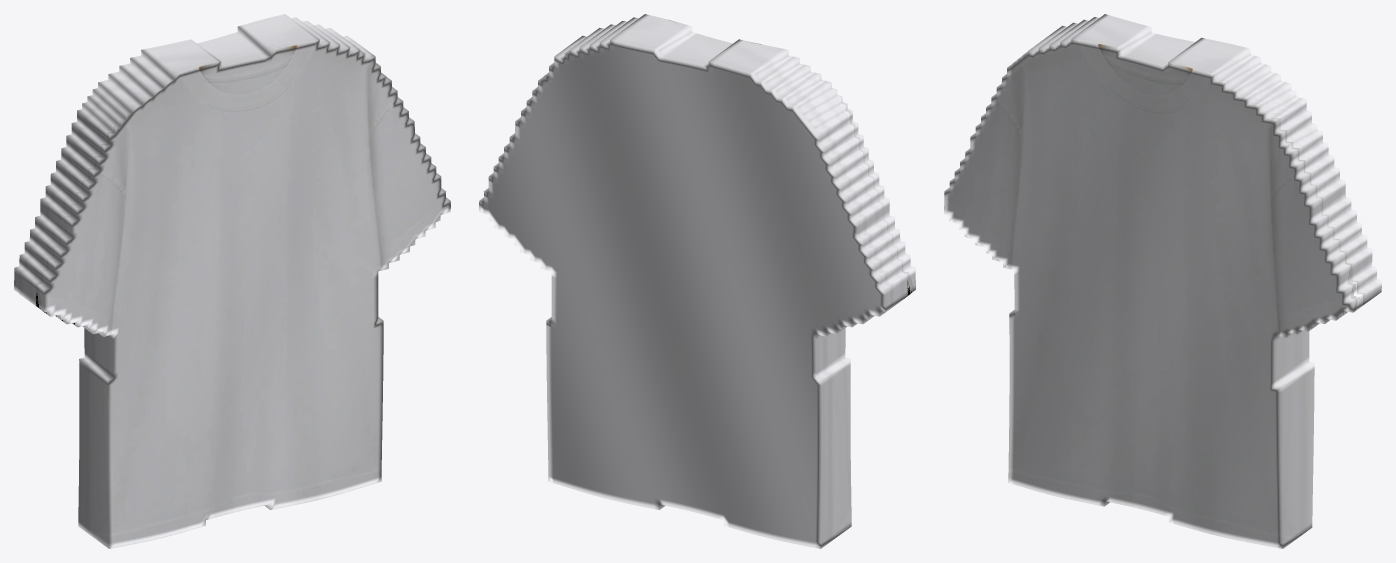
File: offcut-heavy-white.glb
The picture shows the model from 3 angles, left to right: view 1: azimuth 30°, elevation 25°; view 2: azimuth 150°, elevation 25°; view 3: azimuth 330°, elevation 25°; orthographic projection.
Visible parts, largest first — view 1: offcut-heavy-white; view 2: offcut-heavy-white; view 3: offcut-heavy-white.
Boxes of the visible parts, x1,y1,x2,y2 form: offcut-heavy-white: (14,14,450,548); offcut-heavy-white: (479,14,915,548); offcut-heavy-white: (944,14,1381,548).
Bounding box in the file's own units: 0.684 × 0.738 × 0.104.
Materials: 1 (1 with a texture image).
